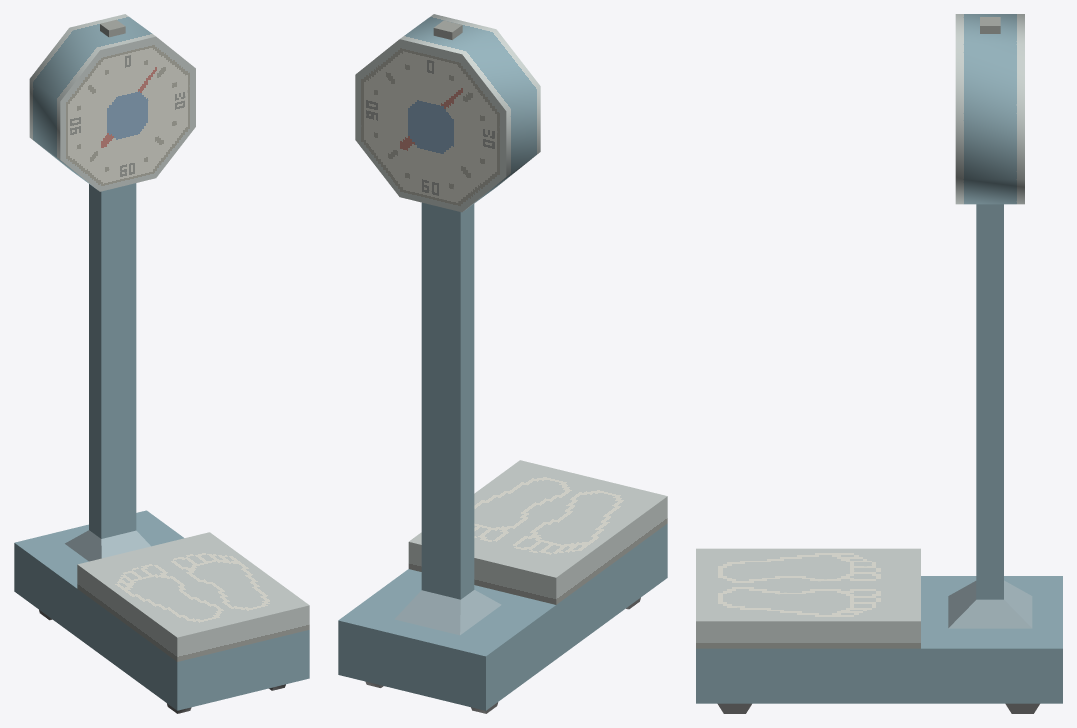
Rendered from 0081_Scale.glb.
3 renders of one model, left to right at view 1: azimuth 30°, elevation 25°; view 2: azimuth 150°, elevation 25°; view 3: azimuth 270°, elevation 25°, orthographic. The views are drawn at different scales.
Visible parts, largest first — view 1: part_0; view 2: part_0; view 3: part_0.
Boxes of the visible parts, bbox=[...] form: part_0: bbox=[14, 14, 309, 713]; part_0: bbox=[338, 14, 667, 713]; part_0: bbox=[696, 14, 1062, 713].
Bounding box in the file's own units: 0.3049 × 1.27 × 0.6359.
Materials: 1 (1 with a texture image).
